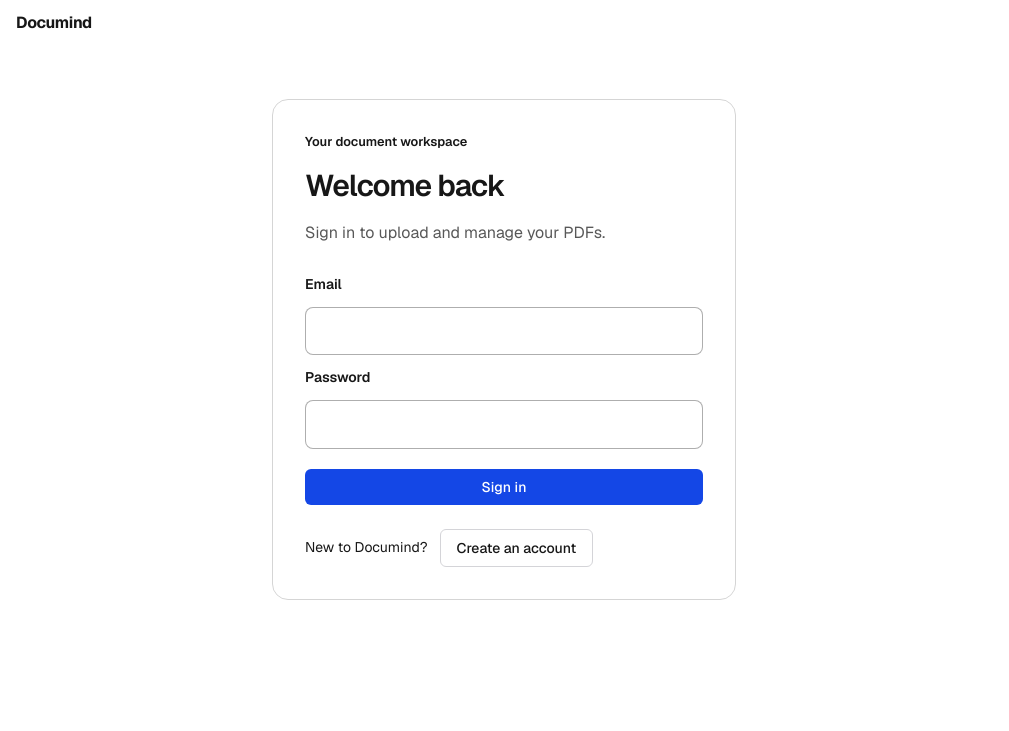
it: signs in, opens documents, and signs out
Type "reader@example.com" into the field labelled "Email" at (504, 331), box x1=305 y1=307 x2=703 y2=355
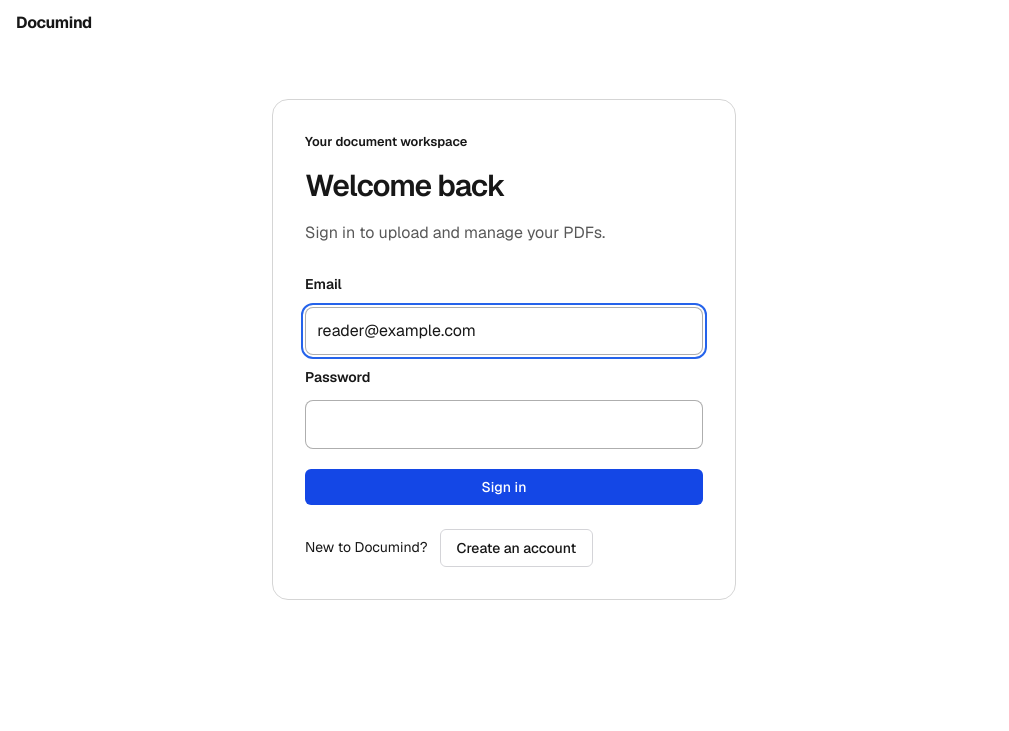
Type "a-long-test-passphrase" into the password field labelled "Password" at (504, 424), box x1=305 y1=400 x2=703 y2=449
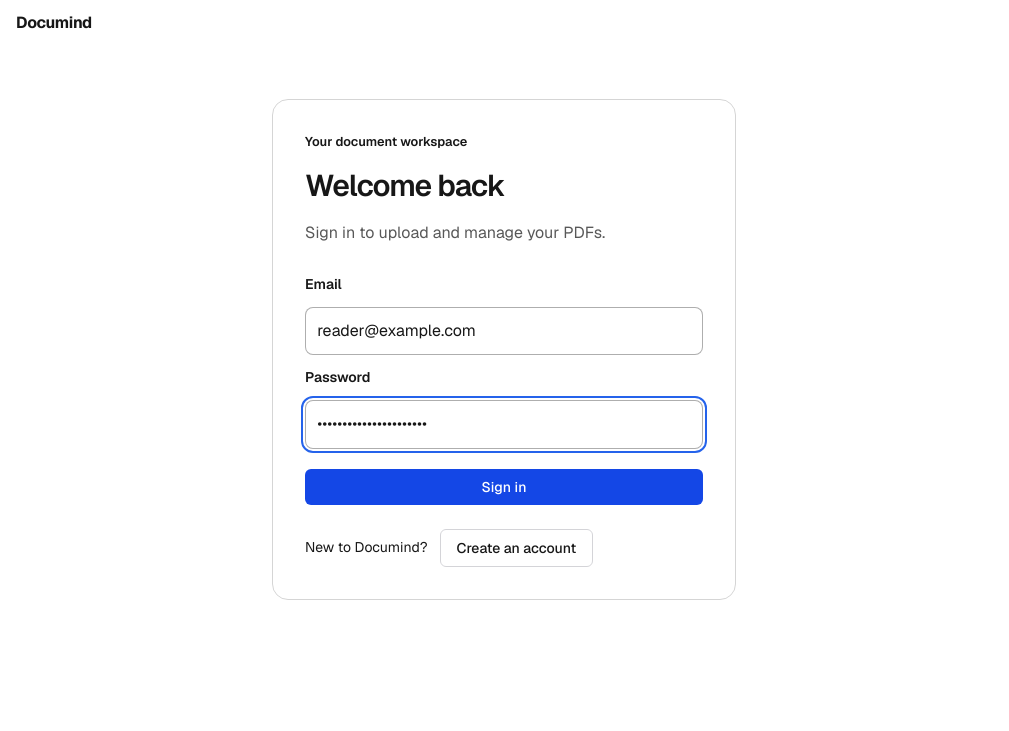
Click the button "Sign in" at (504, 486), box x1=305 y1=468 x2=703 y2=504
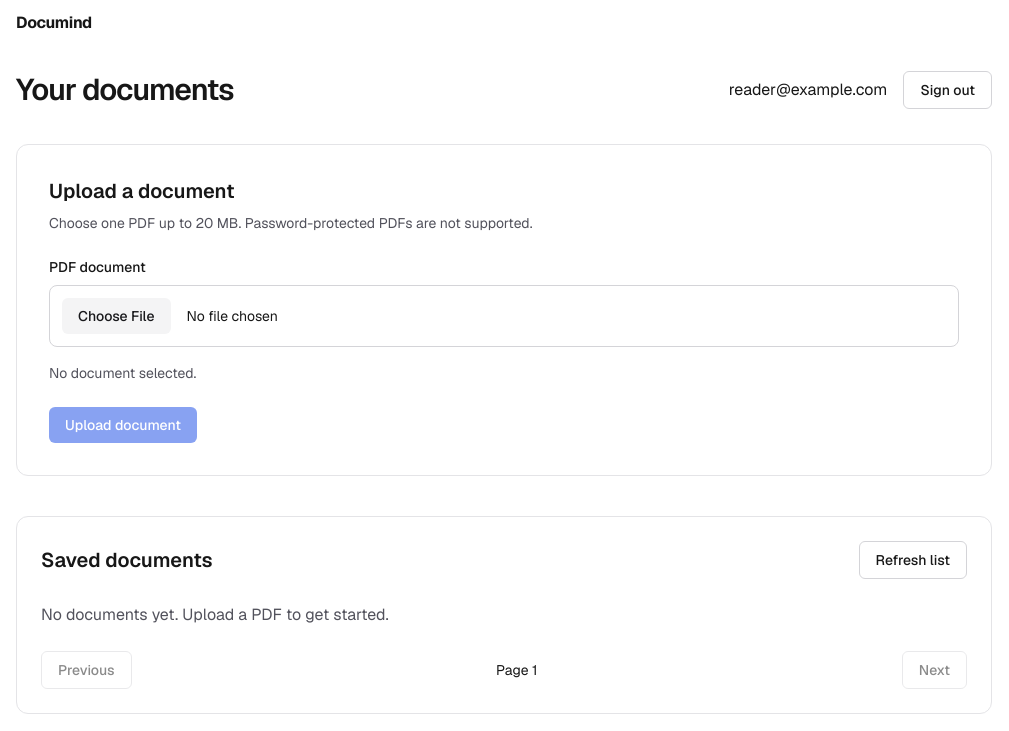
Expected: the text "reader@example.com" is shown, x1=729 y1=78 x2=887 y2=102
Expected: the text "No documents yet. Upload a PDF to get started." is shown, x1=41 y1=604 x2=389 y2=625
Click the button "Sign out" at (948, 90), box x1=903 y1=70 x2=992 y2=108
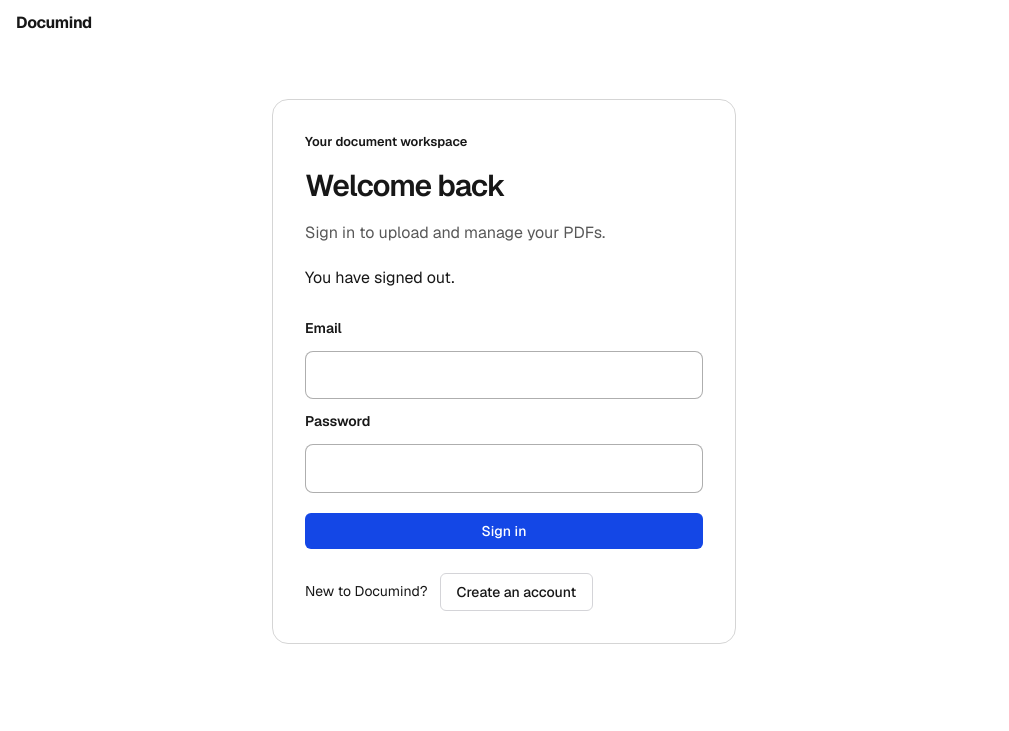
Expected: the text "You have signed out." is shown, x1=305 y1=267 x2=454 y2=288
Expected: the label labelled "PDF document" is gone
Expected: the password field labelled "Password" is empty, x1=305 y1=444 x2=703 y2=493
